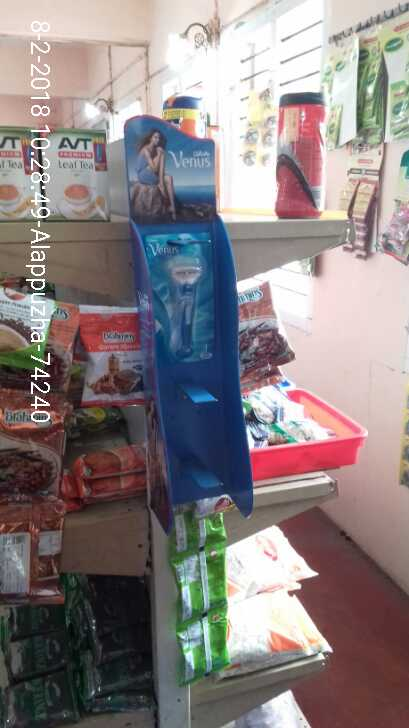venus: (139, 224, 221, 367)
